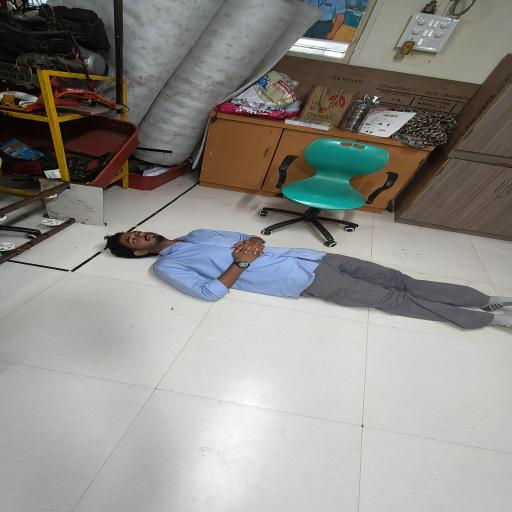survivor: (103, 229, 512, 330)
